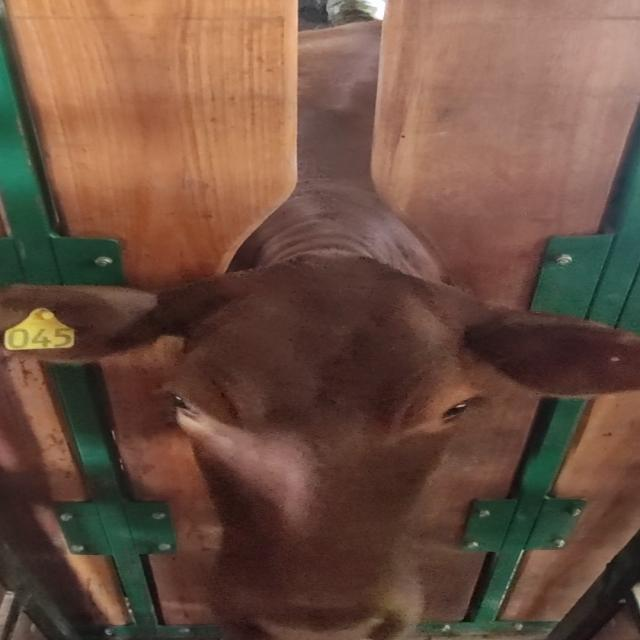cowFace: (173, 256, 483, 636)
